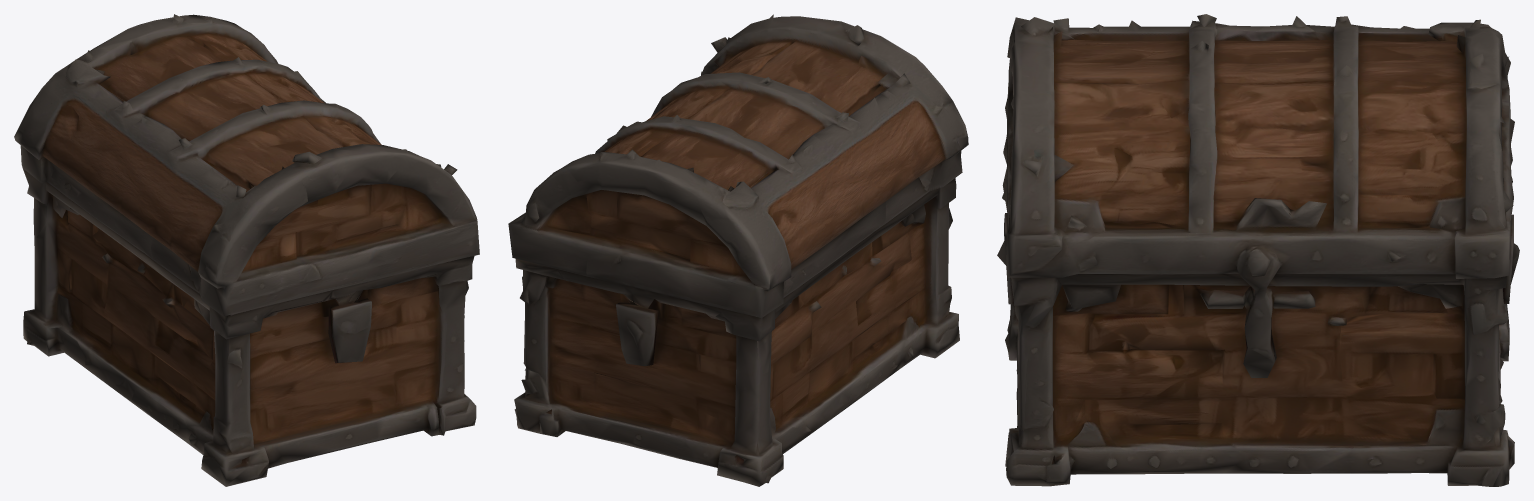
The model's file is tripo_test_chest.glb.
3 views of the same model, side by side, from view 1: azimuth 30°, elevation 25°; view 2: azimuth 150°, elevation 25°; view 3: azimuth 270°, elevation 25° (orthographic). The views are drawn at different scales.
Visible parts, largest first — view 1: tripo_node_b914b539-741b-4df4-a88c-6c4365ca5d0c; view 2: tripo_node_b914b539-741b-4df4-a88c-6c4365ca5d0c; view 3: tripo_node_b914b539-741b-4df4-a88c-6c4365ca5d0c.
Part boxes in pixels (box(x1,y1,x2,y2)): tripo_node_b914b539-741b-4df4-a88c-6c4365ca5d0c: box(14, 14, 479, 486); tripo_node_b914b539-741b-4df4-a88c-6c4365ca5d0c: box(508, 14, 968, 486); tripo_node_b914b539-741b-4df4-a88c-6c4365ca5d0c: box(997, 14, 1519, 486).
Bounding box in the file's own units: 0.758 × 0.7937 × 1.
1 material, 1 textured.
